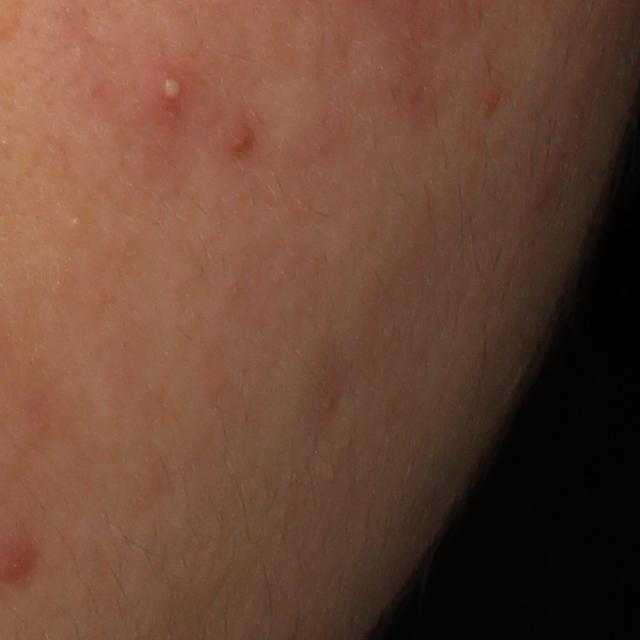comedo: (63, 210, 87, 231)
papule: (221, 120, 256, 155), (529, 181, 552, 210)
pustule: (143, 64, 194, 120)
